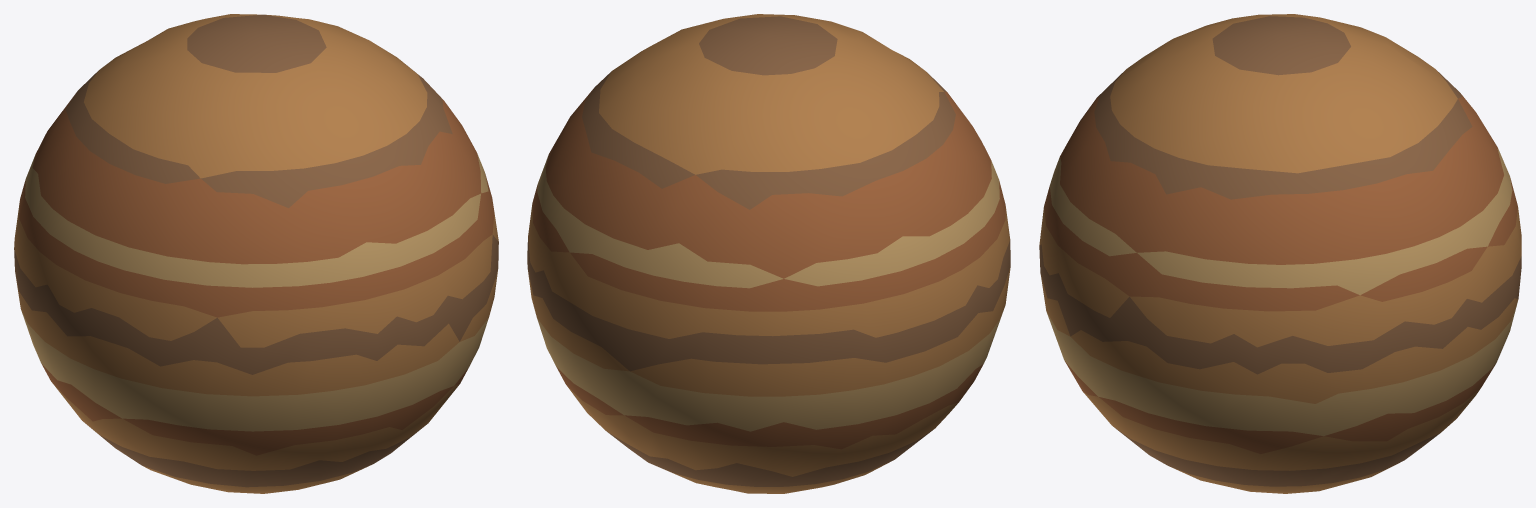
Rendered from planet-6.glb.
3 renders of one model, left to right at view 1: azimuth 30°, elevation 25°; view 2: azimuth 150°, elevation 25°; view 3: azimuth 270°, elevation 25°, orthographic.
Visible parts, largest first — view 1: Planet_6; view 2: Planet_6; view 3: Planet_6.
Part boxes in pixels (x1,y1,x2,y2): Planet_6: [14, 14, 498, 493]; Planet_6: [527, 14, 1010, 493]; Planet_6: [1039, 14, 1521, 493].
Bounding box in the file's own units: 3.76 × 3.75 × 3.75.
